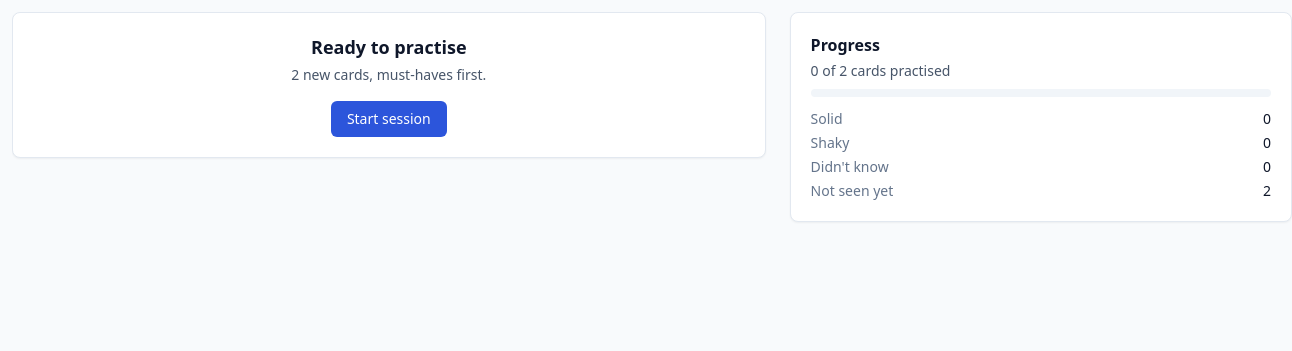
it: component branches › Practice: a one-card session ends with singular copy
This screenshot has width=1292, height=351.
Click the button "Start session". click: (389, 119)
box: x1=331 y1=101 x2=447 y2=137
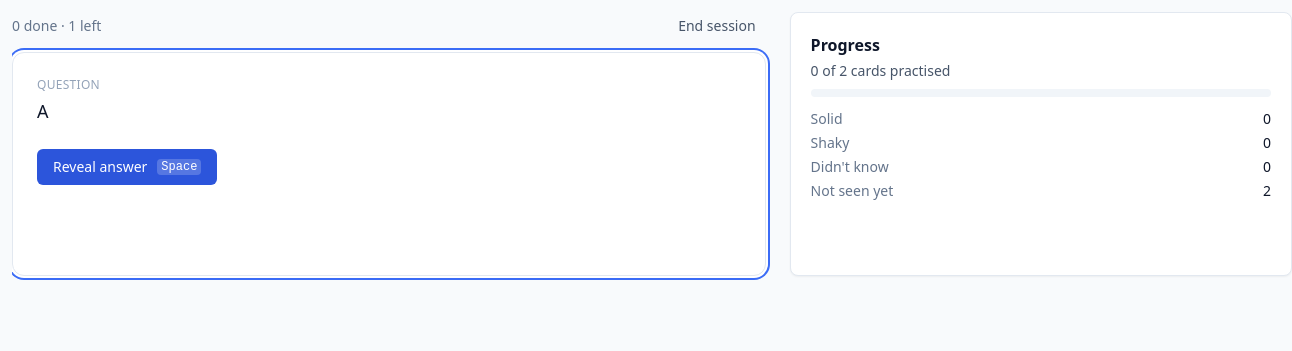
Click the button "Reveal answer Space". click: (127, 167)
box: x1=37 y1=149 x2=217 y2=185
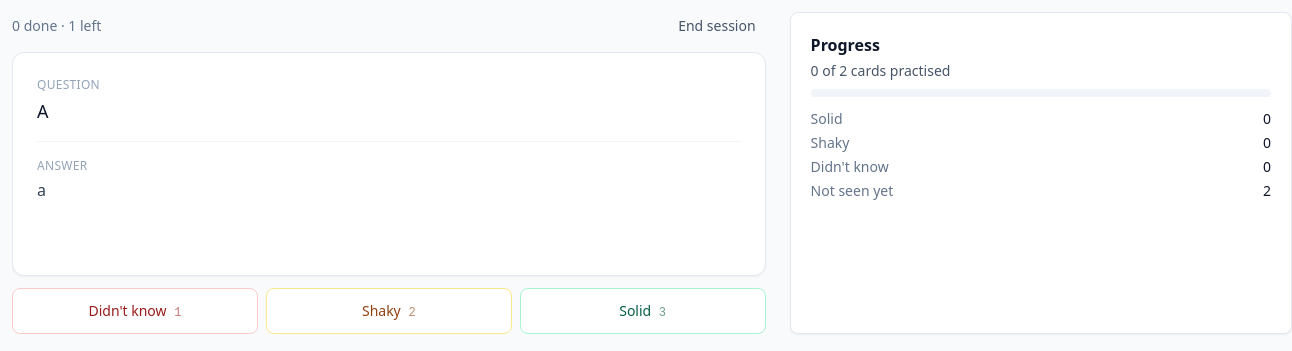
Click the button "Solid 3". click: (643, 311)
box: x1=520 y1=288 x2=766 y2=334
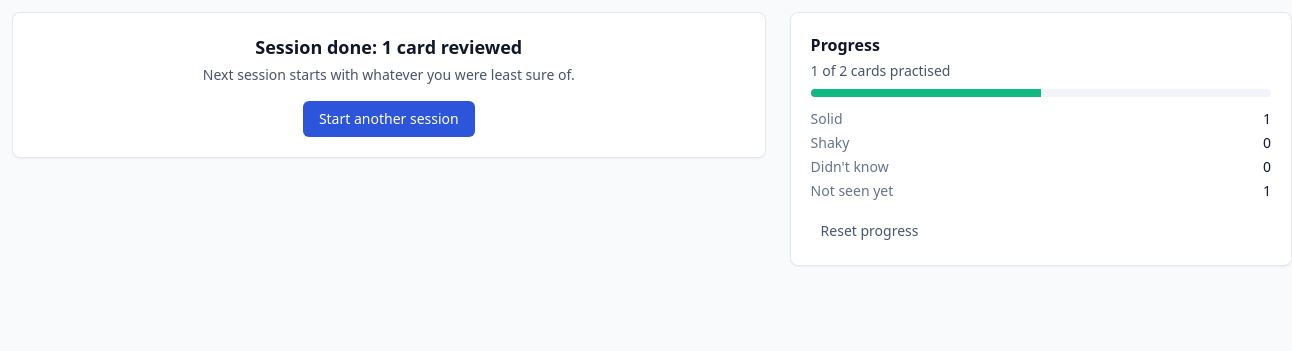
Now the text "Session done: 1 card reviewed" is shown, box x1=255 y1=35 x2=522 y2=59
